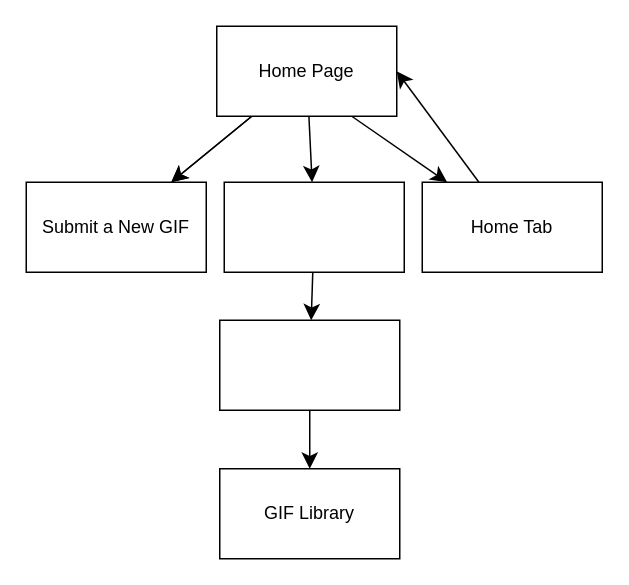
The diagram is 629 pixels wide and 585 high, and some of its shapes have lost their labels. Here are the shapes that lost their labels. From the top down, the box of each, then its label:
(223, 181, 404, 272): Search Bar
(218, 319, 400, 410): Select what GIF the user wants
